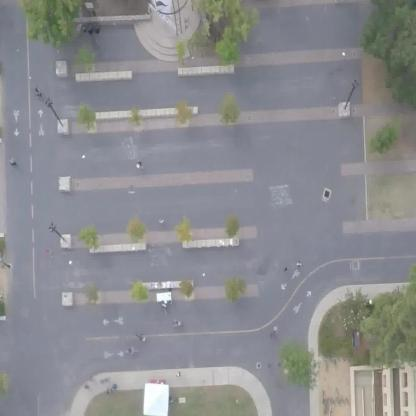Bicyclist: (132, 324, 156, 342), (123, 341, 145, 357), (3, 154, 22, 171), (266, 323, 281, 343), (292, 259, 308, 274), (166, 315, 184, 327), (133, 156, 143, 171)
Pedestrian: (104, 387, 114, 406), (111, 383, 124, 397), (172, 369, 185, 381), (96, 372, 108, 383), (86, 371, 95, 383), (81, 382, 90, 390)
